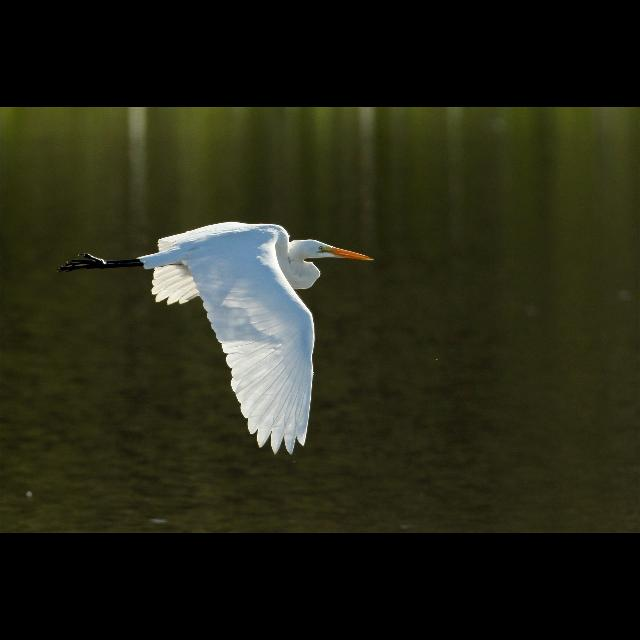egret: (54, 213, 380, 472)
